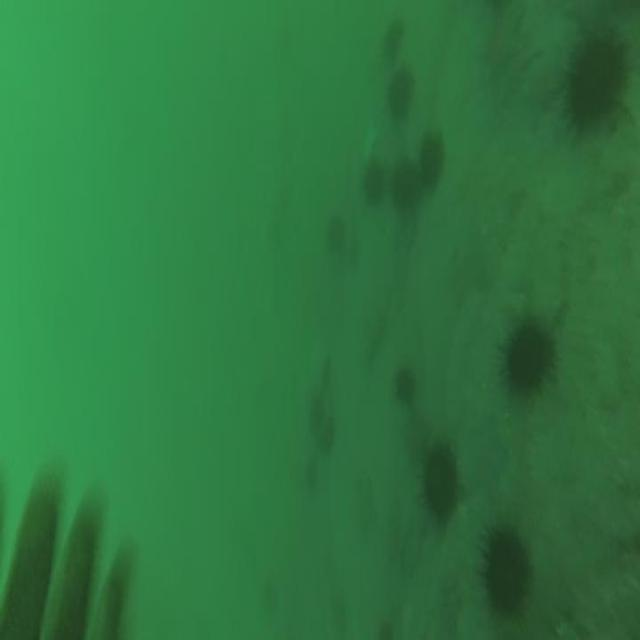echinus: (555, 17, 640, 156), (494, 296, 563, 414), (475, 518, 537, 628), (410, 424, 468, 536), (416, 123, 449, 191), (384, 62, 418, 123), (388, 150, 420, 209), (359, 150, 389, 206), (394, 363, 418, 412), (324, 214, 346, 258)
starfish: (469, 11, 529, 89)
